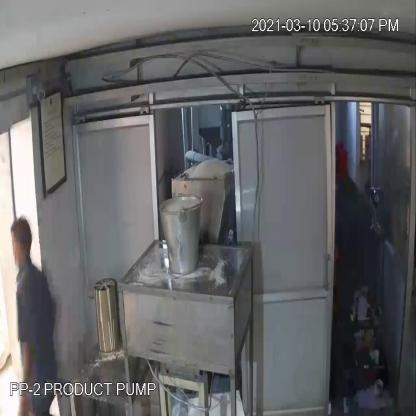no_glove: (14, 332, 34, 416)
